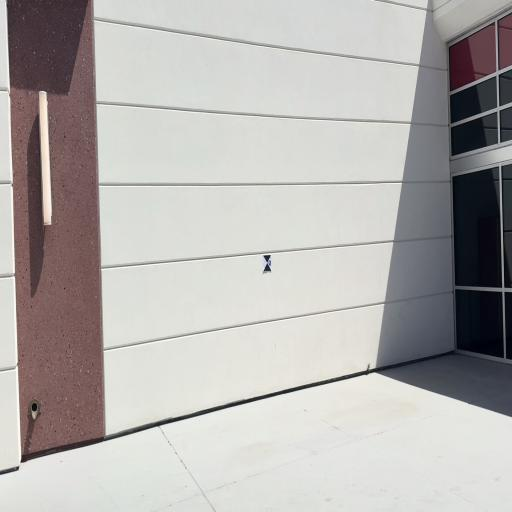target0: (262, 254, 272, 272)
